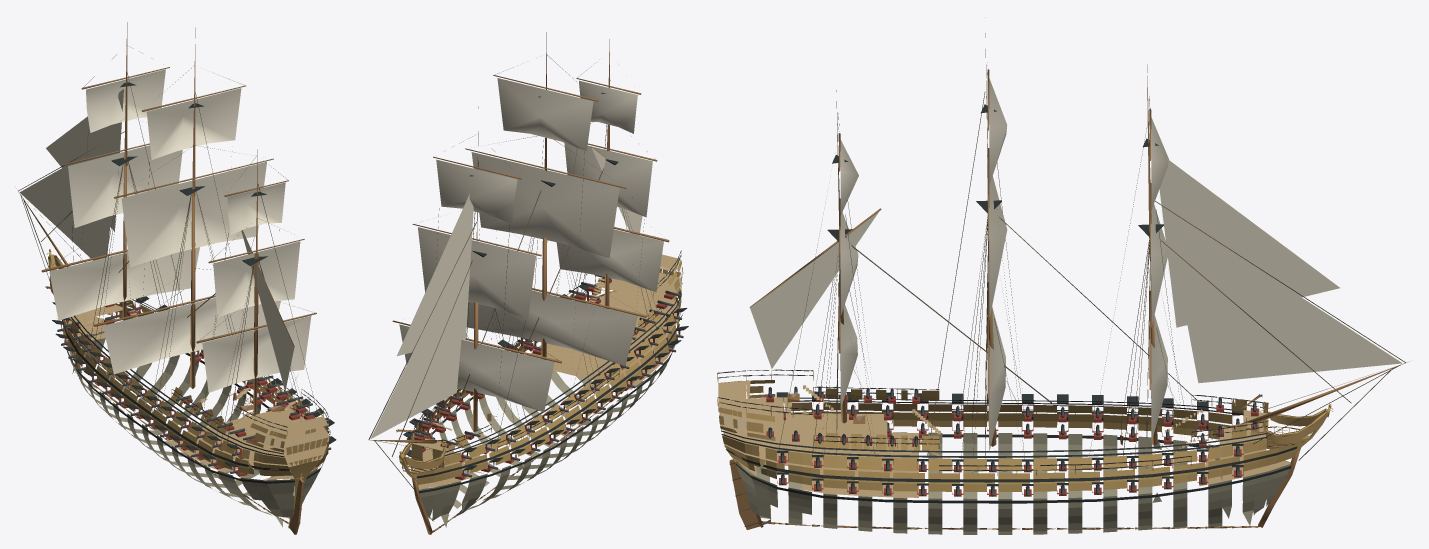
The model's file is bellona-lod2-far.glb.
3 renders of one model, left to right at view 1: azimuth 30°, elevation 25°; view 2: azimuth 150°, elevation 25°; view 3: azimuth 270°, elevation 25°, orthographic. The views are drawn at different scales.
Parts seen in each view (by area): view 1: canvas_main_1, sails__Unbleached_canvas.002, hull_lower, canvas_main_0, canvas_fore_0, canvas_fore_1, hull__Ochre_timber.002, canvas_main_2, canvas_mizzen_0, canvas_mizzen_1, rigging__Tarred_hemp.002, canvas_fore_2 (+14 smaller); view 2: sails__Unbleached_canvas.002, canvas_main_1, canvas_main_0, hull_lower, hull__Ochre_timber.002, canvas_fore_1, canvas_fore_0, canvas_main_2, canvas_mizzen_0, canvas_mizzen_1, canvas_fore_2, hull__Black_tar_wales.002 (+11 smaller); view 3: sails__Unbleached_canvas.002, hull__Ochre_timber.002, hull_lower, hull__Black_tar_wales.002, rigging__Tarred_hemp.002, upper_gundeck, upper_works__Ochre_timber.002, decks__Black_tar_wales.002, lower_gundeck, quarterdeck, canvas_main_0, canvas_main_1 (+10 smaller).
Boxes of the visible parts, box(x1,y1,x2,y2) form: canvas_main_1: box(121, 161, 266, 267); sails__Unbleached_canvas.002: box(20, 89, 294, 391); hull_lower: box(63, 317, 323, 527); canvas_main_0: box(103, 297, 280, 374); canvas_fore_0: box(49, 247, 199, 320); canvas_fore_1: box(68, 145, 182, 227); hull__Ochre_timber.002: box(62, 300, 329, 515); canvas_main_2: box(146, 88, 241, 159); canvas_mizzen_0: box(202, 315, 311, 392); canvas_mizzen_1: box(213, 241, 300, 317); rigging__Tarred_hemp.002: box(18, 46, 318, 442); canvas_fore_2: box(86, 69, 165, 132); sails__Unbleached_canvas.002: box(370, 147, 642, 438); canvas_main_1: box(471, 152, 619, 258); canvas_main_0: box(466, 290, 637, 365); hull_lower: box(419, 338, 677, 527); hull__Ochre_timber.002: box(411, 287, 682, 484); canvas_fore_1: box(418, 227, 536, 318); canvas_fore_0: box(399, 324, 554, 412); canvas_main_2: box(497, 78, 593, 150); canvas_mizzen_0: box(556, 229, 663, 292); canvas_mizzen_1: box(564, 143, 652, 217); canvas_fore_2: box(436, 159, 517, 223); hull__Black_tar_wales.002: box(411, 280, 681, 493); sails__Unbleached_canvas.002: box(750, 158, 1402, 383); hull__Ochre_timber.002: box(722, 402, 1297, 491); hull_lower: box(734, 432, 1291, 534); hull__Black_tar_wales.002: box(721, 397, 1297, 503); rigging__Tarred_hemp.002: box(778, 62, 1405, 464); upper_gundeck: box(724, 413, 1265, 472); upper_works__Ochre_timber.002: box(718, 380, 1268, 450); decks__Black_tar_wales.002: box(717, 369, 1267, 471); lower_gundeck: box(735, 432, 1290, 497); quarterdeck: box(720, 397, 792, 441); canvas_main_0: box(989, 308, 1005, 450); canvas_main_1: box(987, 155, 1007, 319).
Size of what is drawn, in the model's own units: 25 by 52.06 by 63.81.
